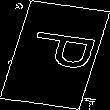P_E: (12, 31, 98, 79)
